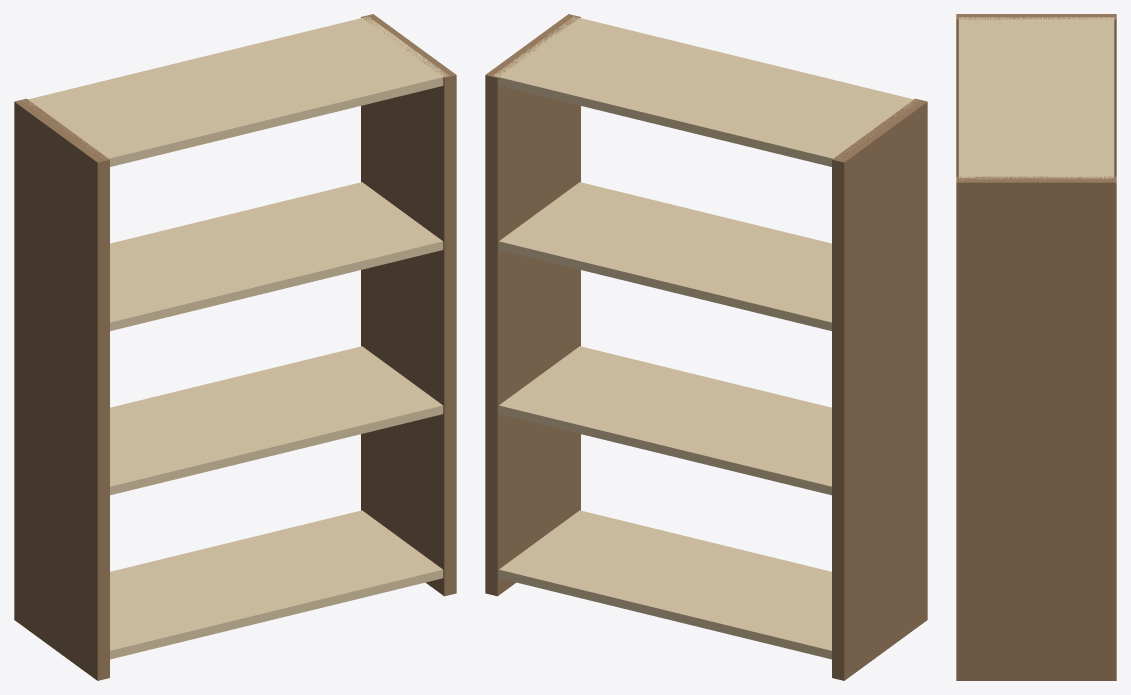
Rendered from shelf.glb.
The picture shows the model from 3 angles, left to right: view 1: azimuth 30°, elevation 25°; view 2: azimuth 150°, elevation 25°; view 3: azimuth 270°, elevation 25°; orthographic projection. The views are drawn at different scales.
Parts seen in each view (by area): view 1: shelves, sides; view 2: shelves, sides; view 3: sides, shelves.
Part boxes in pixels (<box>): shelves: <box>22,16,448,659</box>; sides: <box>14,14,456,680</box>; shelves: <box>493,16,917,659</box>; sides: <box>485,14,927,680</box>; sides: <box>956,14,1116,680</box>; shelves: <box>958,17,1114,179</box>.
Bounding box in the file's own units: 0.87 × 1.2 × 0.35.
